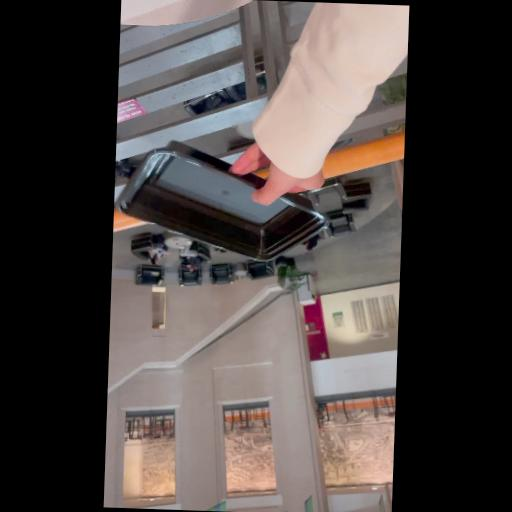rigid_plastic_container: (110, 122, 344, 292)
